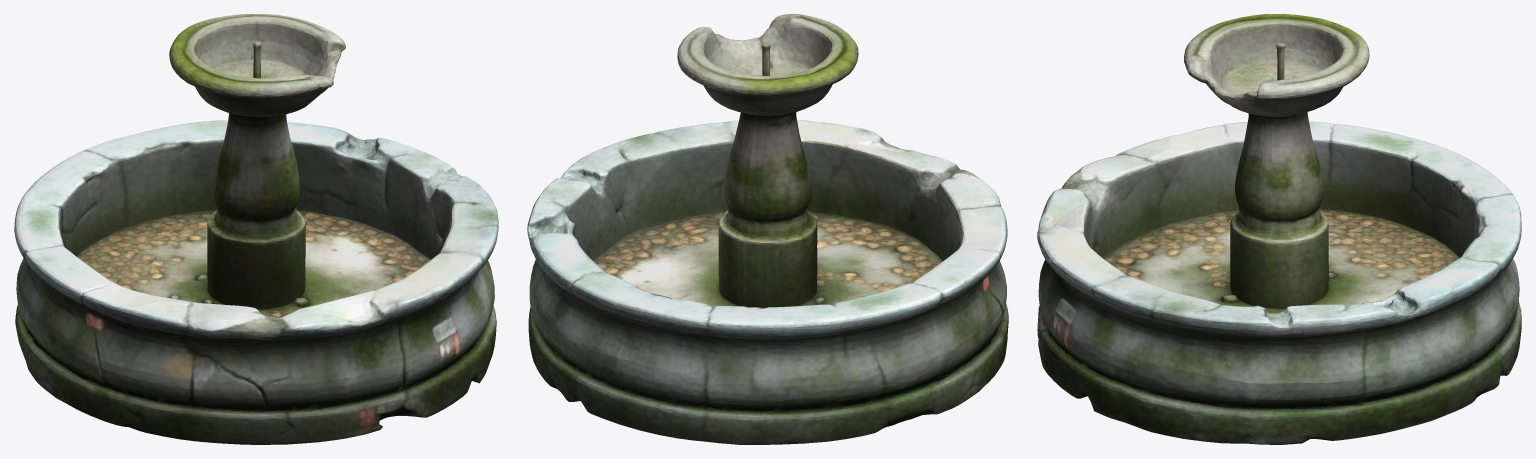
Rendered from fountain.glb.
3 views of the same model, side by side, from view 1: azimuth 30°, elevation 25°; view 2: azimuth 150°, elevation 25°; view 3: azimuth 270°, elevation 25° (orthographic).
Parts seen in each view (by area): view 1: world; view 2: world; view 3: world.
Boxes of the visible parts, x1,y1,x2,y2 form: world: [14, 14, 498, 444]; world: [527, 14, 1008, 444]; world: [1037, 14, 1521, 444].
Size of the model in its own units: 0.9908 by 0.6942 by 0.9984.
Materials: 1 (1 with a texture image).
